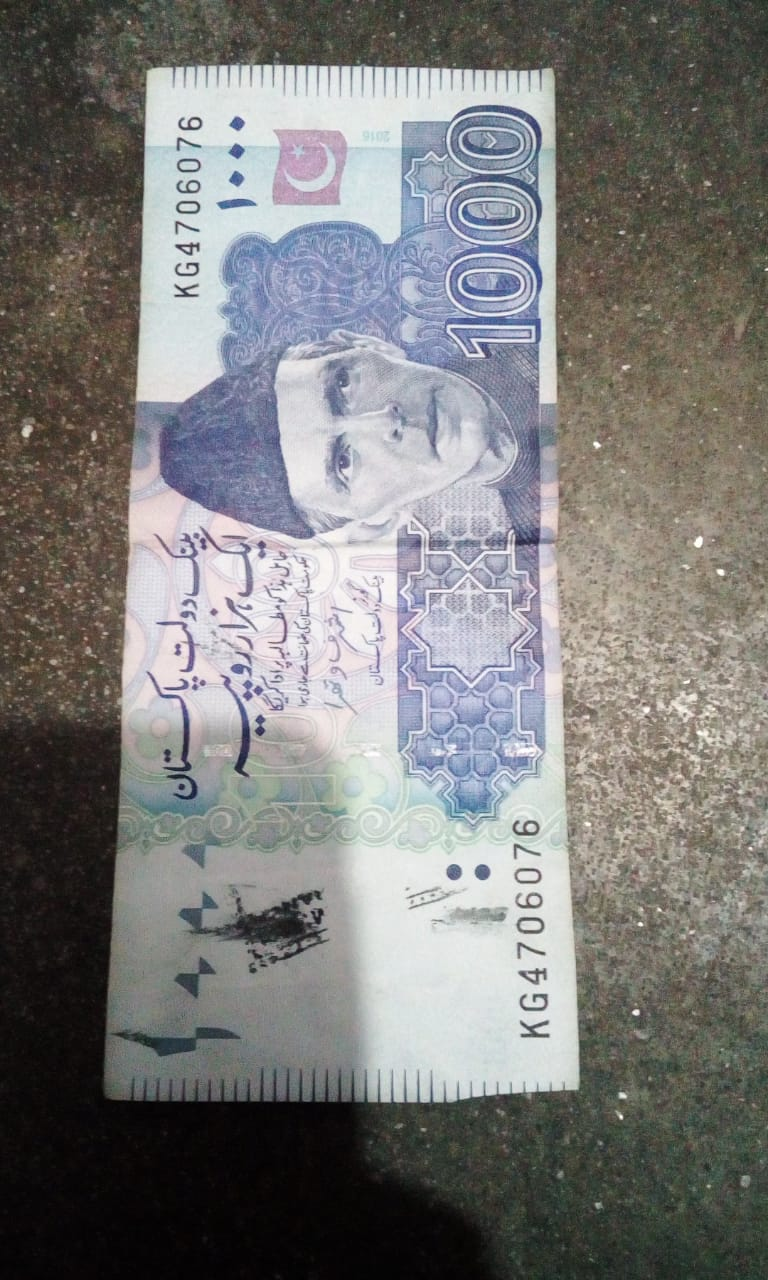1000 rupee: (109, 71, 558, 1125)
